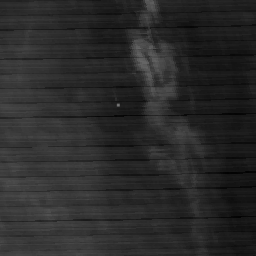Target: (115, 102, 120, 108)
